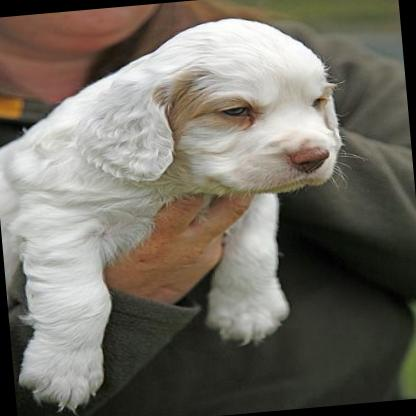clumber: (0, 9, 366, 416)
